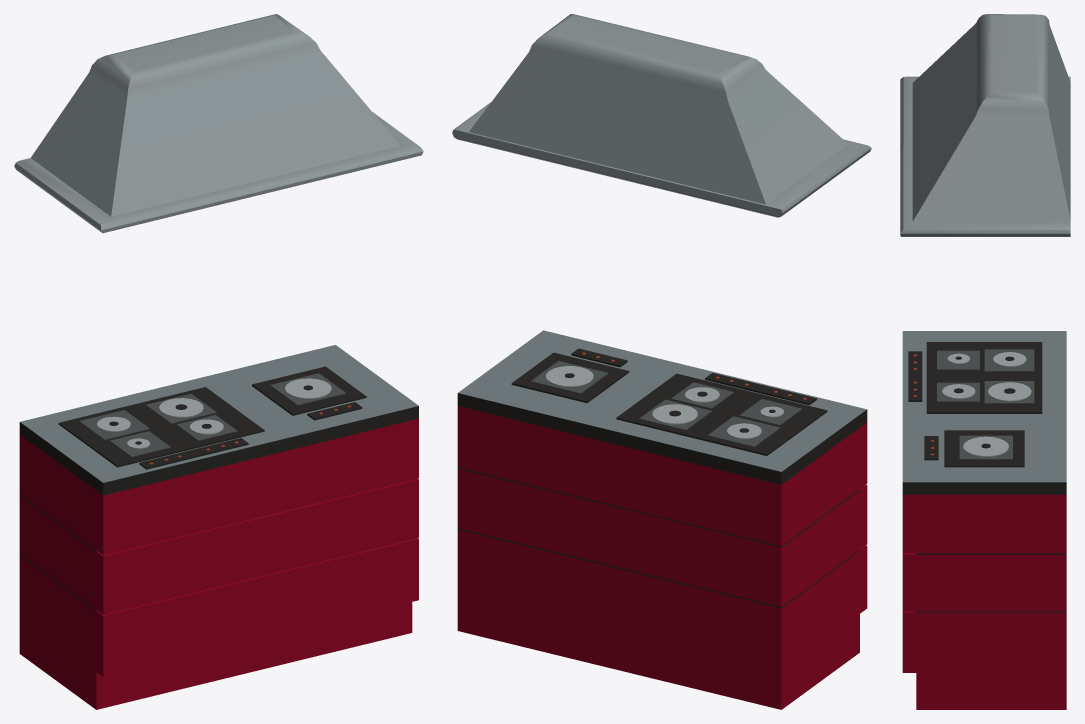
Rendered from Kitchen.fbx.
The picture shows the model from 3 angles, left to right: view 1: azimuth 30°, elevation 25°; view 2: azimuth 150°, elevation 25°; view 3: azimuth 270°, elevation 25°; orthographic projection. The views are drawn at different scales.
Parts seen in each view (by area): view 1: pCube11; view 2: pCube11; view 3: pCube11.
Boxes of the visible parts, x1,y1,x2,y2 form: pCube11: [14, 14, 423, 709]; pCube11: [452, 14, 871, 709]; pCube11: [900, 14, 1070, 709].
Size of the model in its own units: 134 by 234 by 62.46.
